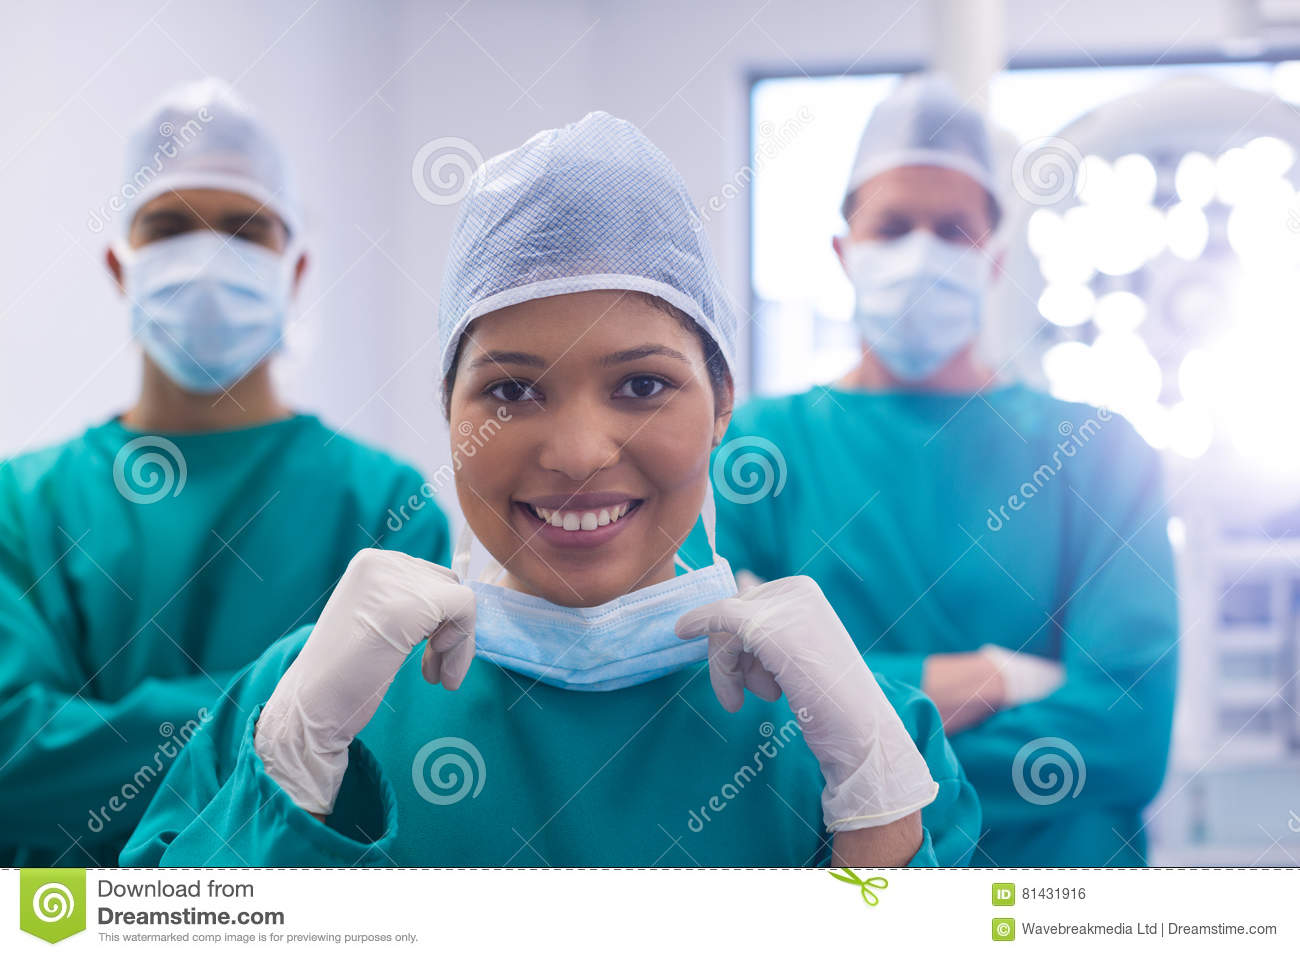mask: (442, 577, 769, 705), (104, 235, 304, 389), (858, 239, 981, 366)
